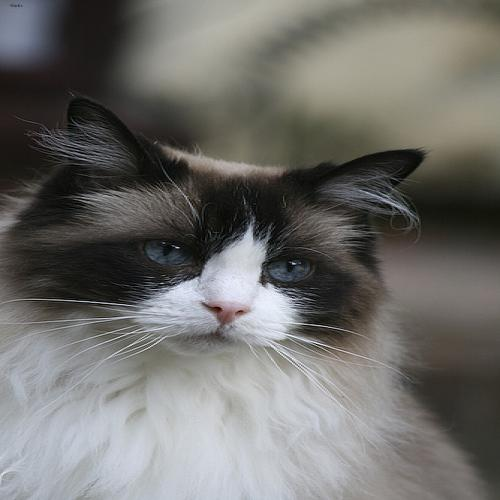ragdoll: (26, 88, 453, 374)
